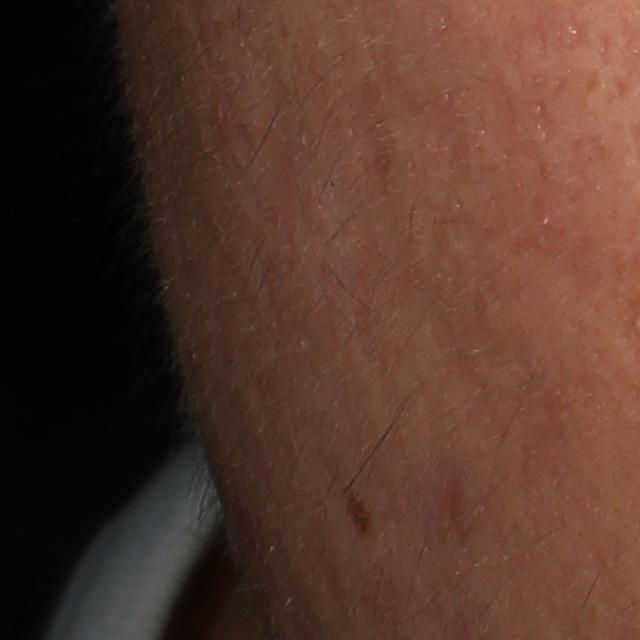nevus: (343, 486, 379, 541)
